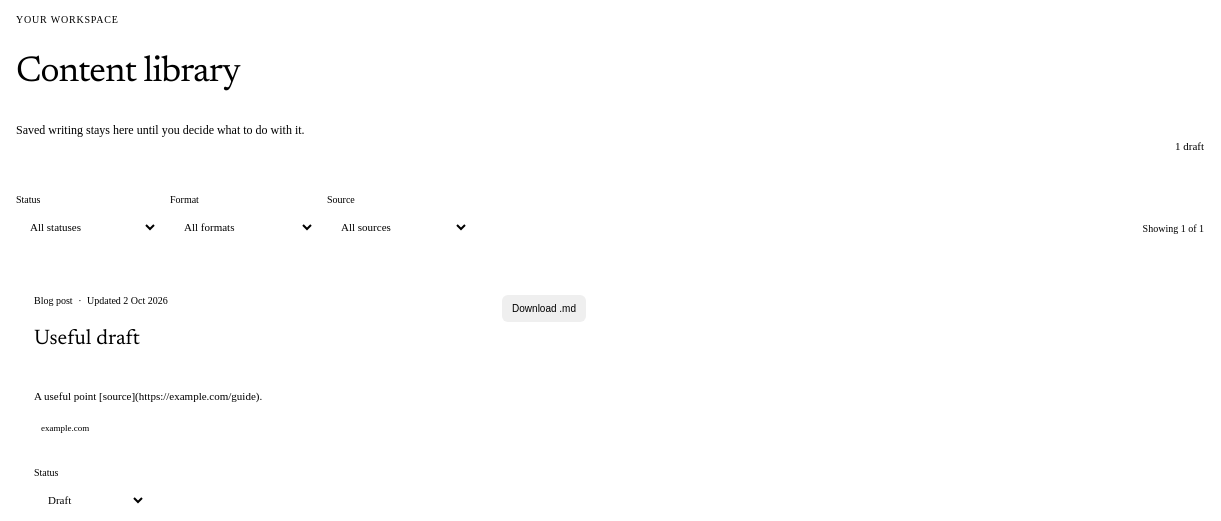
Test: ContentLibrary component › downloads the Markdown body with sources and shows the empty state
Click the button "Download .md": coordinates (544, 308) [502,295,586,322]
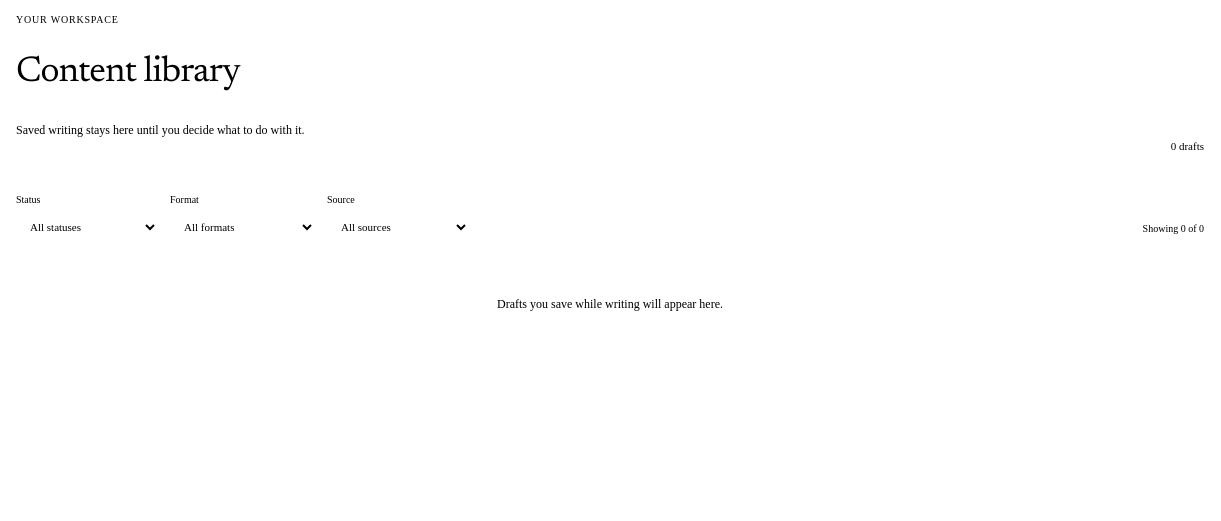
Result: the text "Drafts you save while writing will appear here." is shown at [497,297,723,311]
